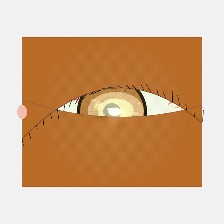corneal_ulcer: (86, 87, 145, 134)
